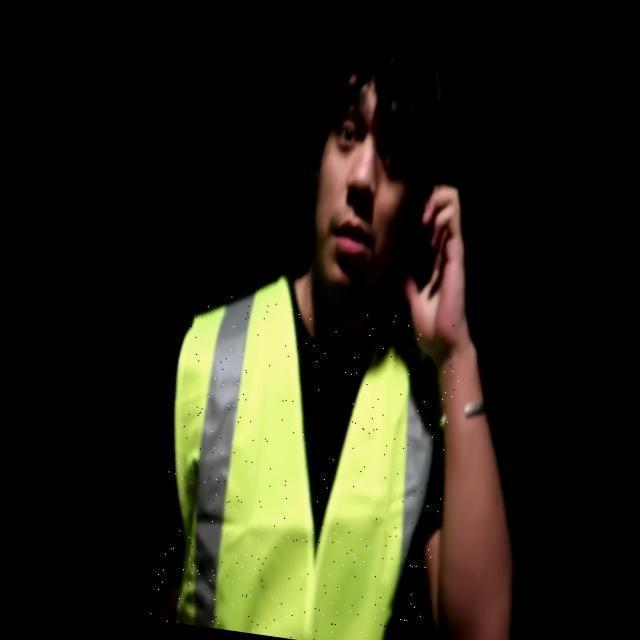safety_helmet: (174, 284, 430, 640)
